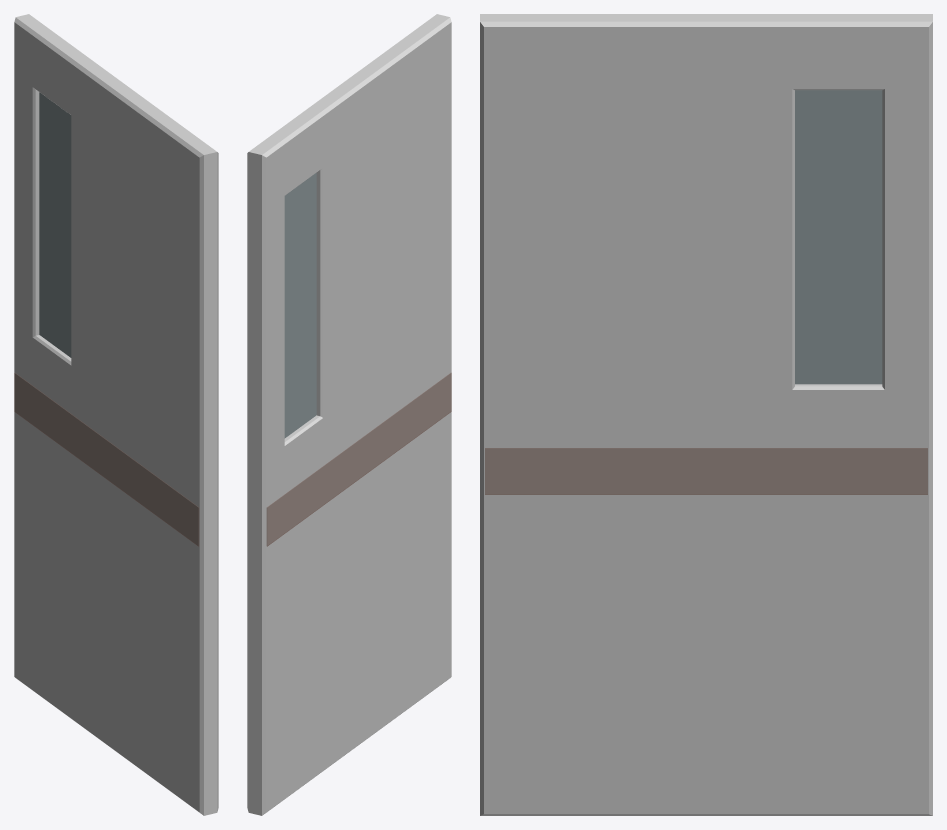
The model's file is Door_02.fbx.
The picture shows the model from 3 angles, left to right: view 1: azimuth 30°, elevation 25°; view 2: azimuth 150°, elevation 25°; view 3: azimuth 270°, elevation 25°; orthographic projection. The views are drawn at different scales.
Visible parts, largest first — view 1: DoorBase, Glass, RedStripe; view 2: DoorBase, Glass, RedStripe; view 3: DoorBase, Glass, RedStripe.
Part boxes in pixels (<box>): DoorBase: <box>14,14,218,815</box>; Glass: <box>39,92,71,357</box>; RedStripe: <box>14,373,199,546</box>; DoorBase: <box>247,14,451,815</box>; Glass: <box>284,173,316,438</box>; RedStripe: <box>266,373,451,546</box>; DoorBase: <box>480,14,932,815</box>; Glass: <box>795,90,882,384</box>; RedStripe: <box>485,448,927,494</box>.
Bounding box in the file's own units: 54.32 × 1695 × 876.
